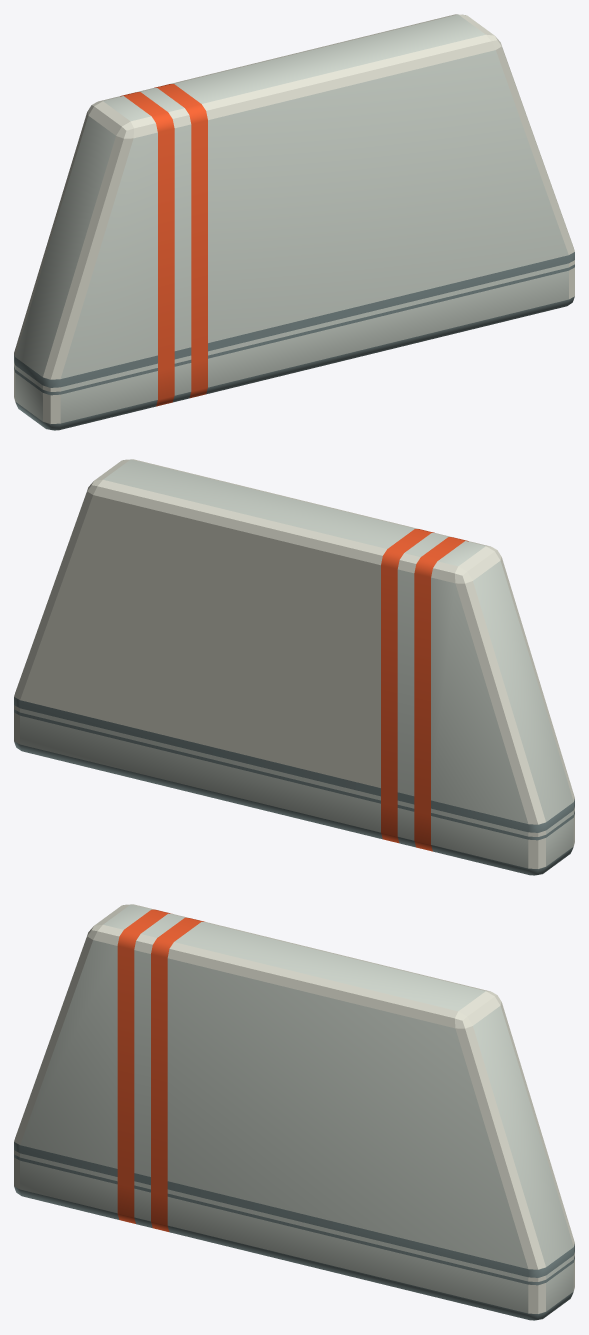
Rendered from StreetFence_01.glb.
3 views of the same model, one above another, from view 1: azimuth 30°, elevation 25°; view 2: azimuth 150°, elevation 25°; view 3: azimuth 330°, elevation 25° (orthographic).
Parts seen in each view (by area): view 1: StreetFence_01; view 2: StreetFence_01; view 3: StreetFence_01.
Part boxes in pixels (x1,y1,x2,y2): StreetFence_01: (14, 14, 574, 430); StreetFence_01: (14, 459, 574, 875); StreetFence_01: (14, 904, 574, 1320).
Size of what is drawn, in the model's own units: 1.99 by 1.04 by 0.2616.
Materials: 1 (1 with a texture image).
